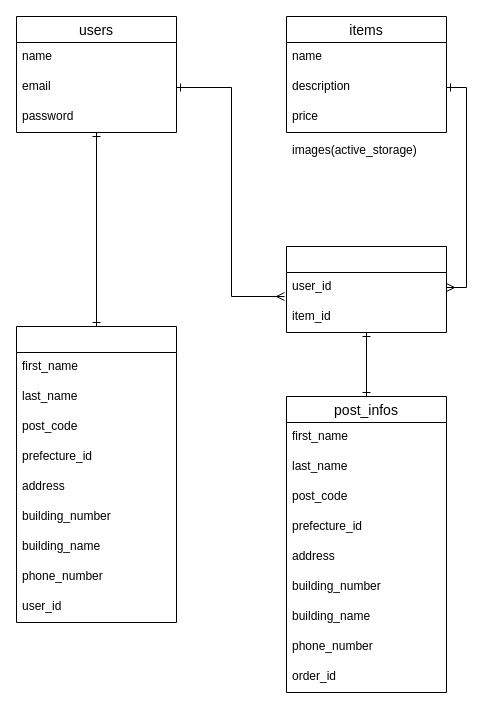
The diagram is 483 pixels wide and 709 high, and some of its shapes have lost their labels. The shapes that lost their labels are listed below. From the top down, each one's box as (x1, y1, x2, y2) in pixels, then its label:
(286, 246, 446, 332): orders
(16, 326, 176, 622): user_infos
